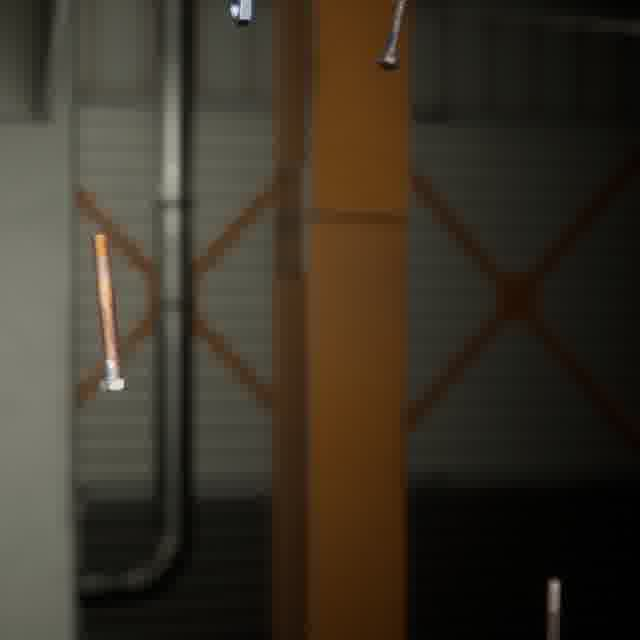bolt: (87, 229, 133, 395), (372, 0, 411, 75)
nut: (224, 0, 256, 31)
